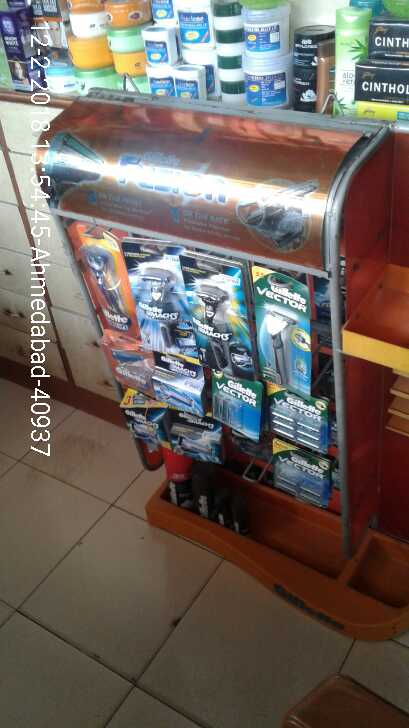gillette: (182, 242, 253, 378), (122, 234, 187, 358), (253, 268, 317, 379), (69, 225, 129, 343), (262, 379, 340, 448), (257, 444, 344, 504), (205, 376, 261, 439), (142, 356, 190, 408)
